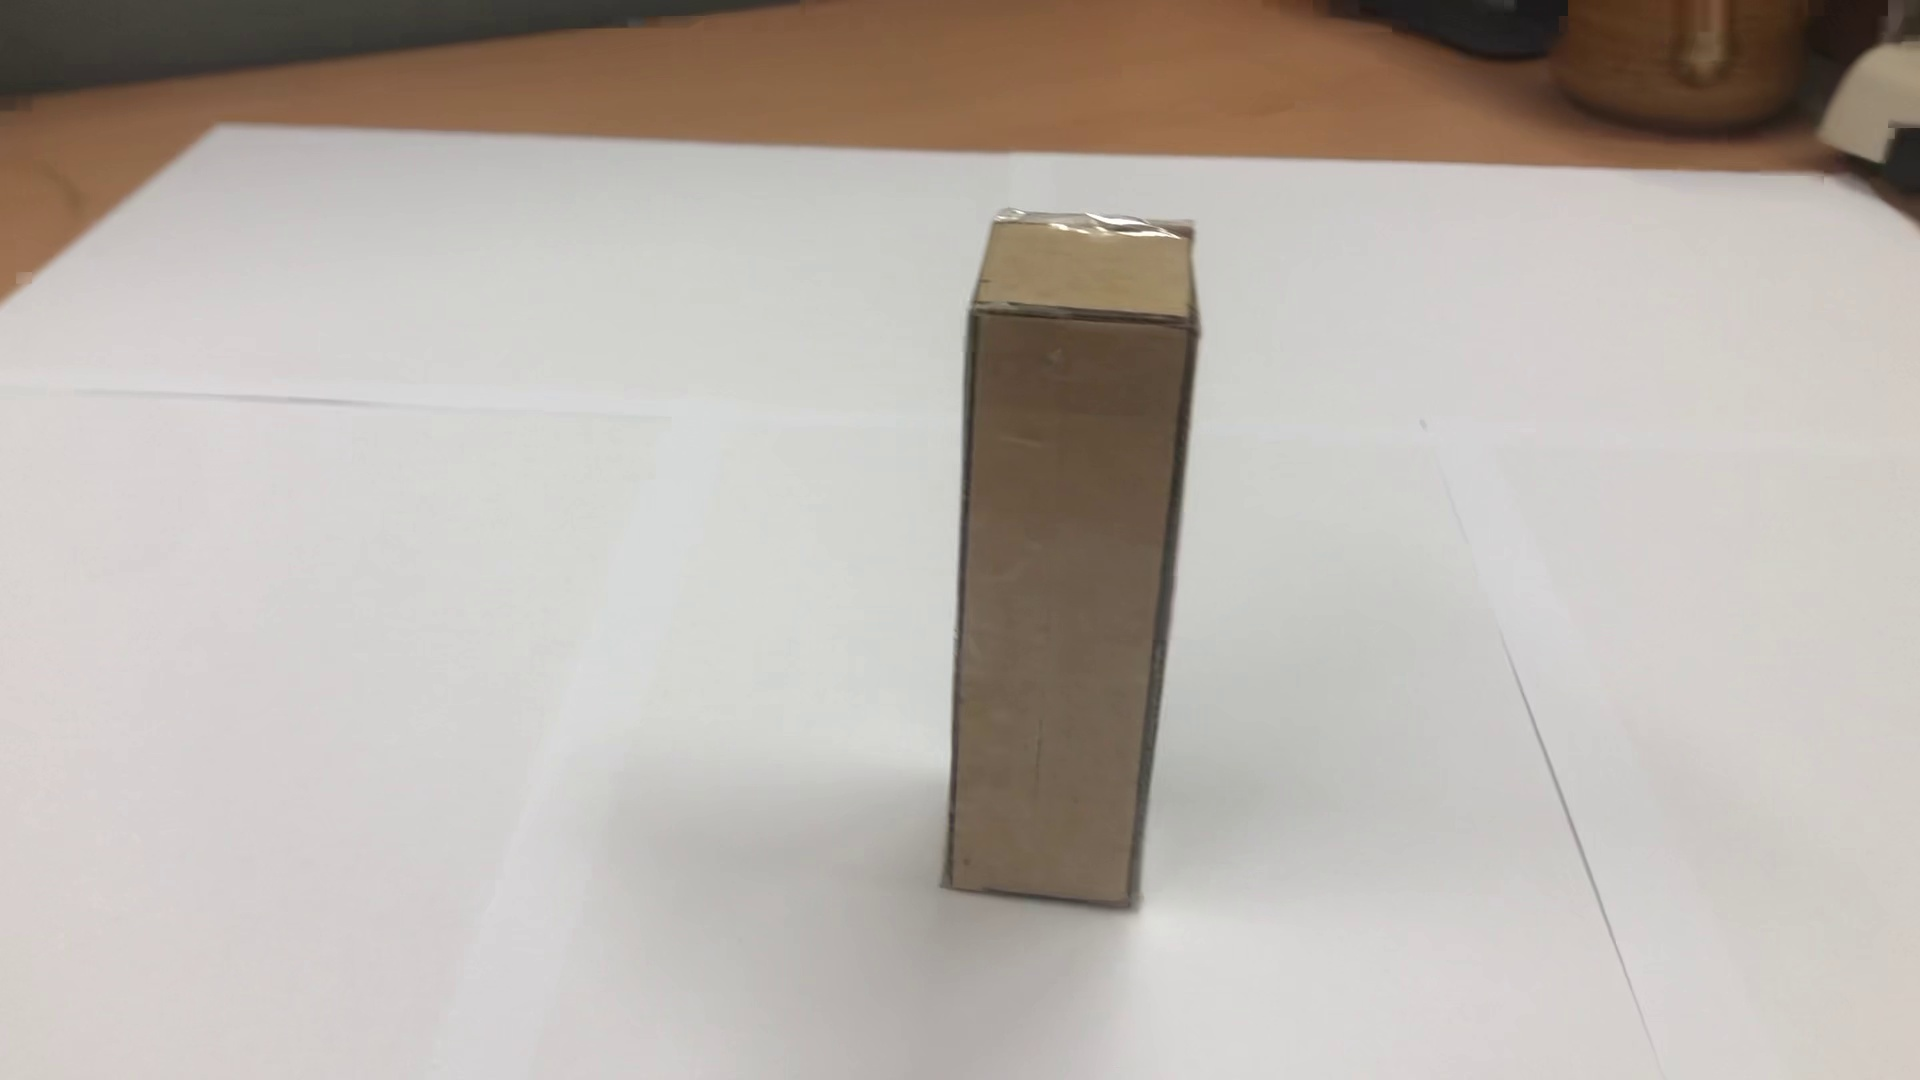box: (926, 181, 1197, 964)
